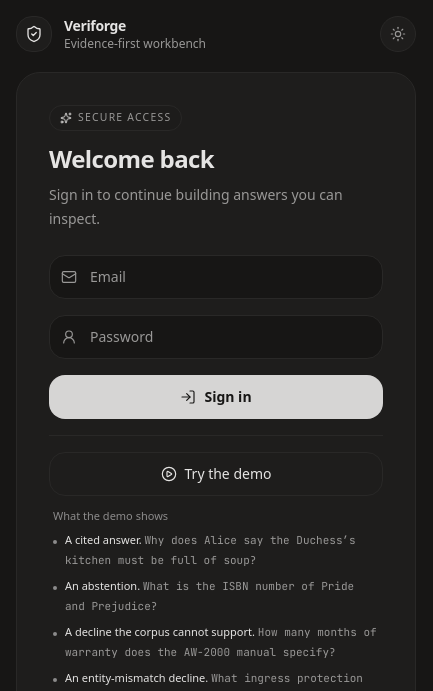
Test: Try the demo › says something useful when the per-IP limit refuses it
Click the button "Try the demo" at (216, 474), box 49,452 -> 383,496
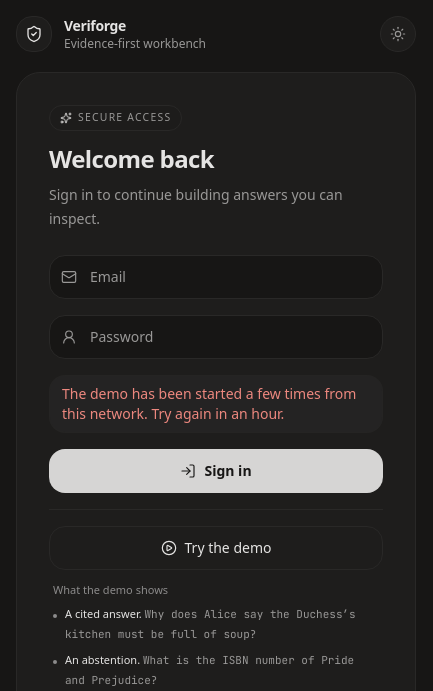
Now the message shows "this network", box 62,384 -> 356,423
